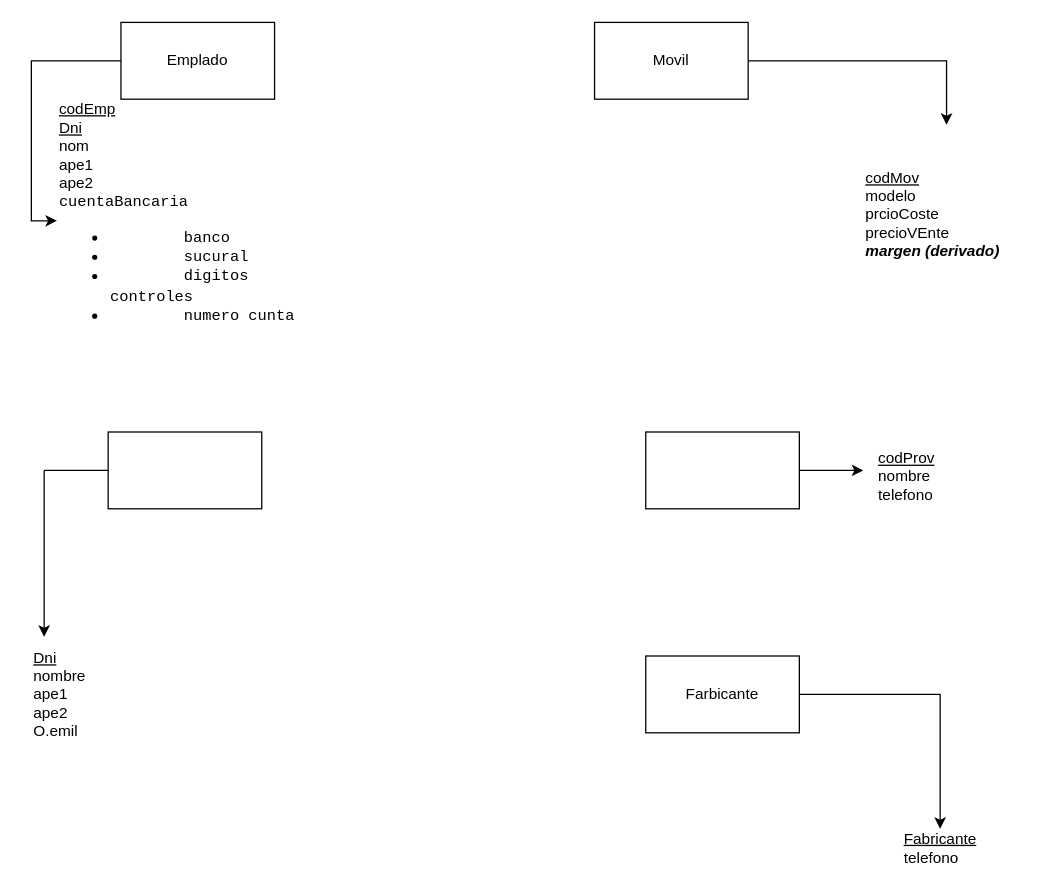
The diagram is 1052 pixels wide and 890 high, and some of its shapes have lost their labels. The shapes that lost their labels are listed below. From the top down, each one's centre as x and y in pixels, then its label:
At point (184, 470): "Clientes".
At point (721, 470): "Provedor".
